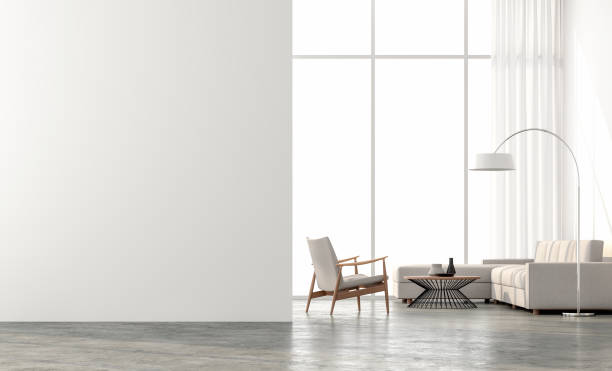chair: (303, 232, 392, 318)
floor lamp: (464, 126, 596, 318)
sofa: (393, 239, 612, 316)
table: (402, 271, 481, 312)
